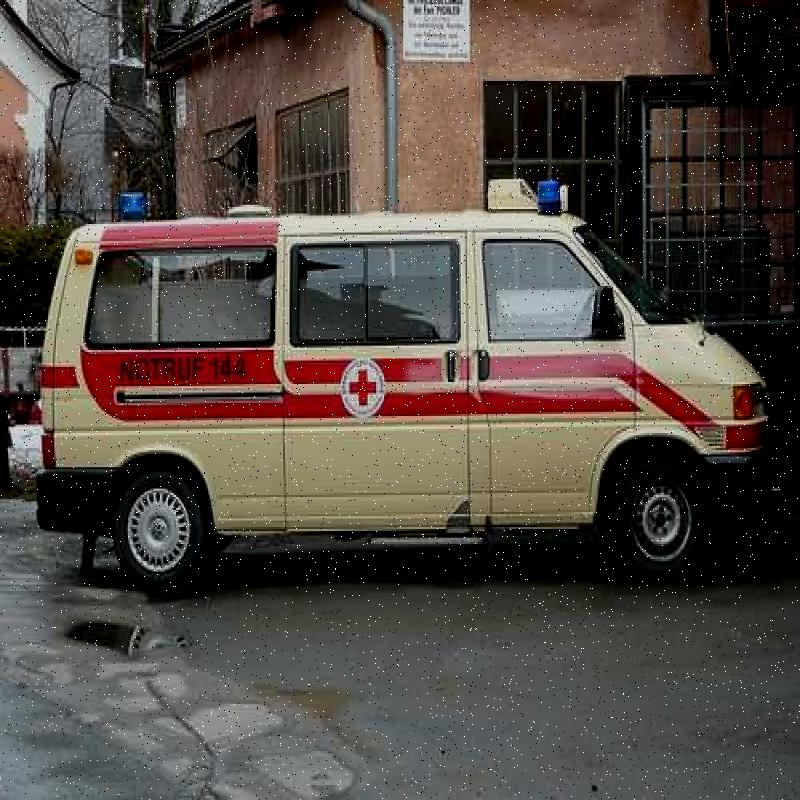AmbulanceSiren: (111, 175, 150, 227), (531, 172, 566, 226)
